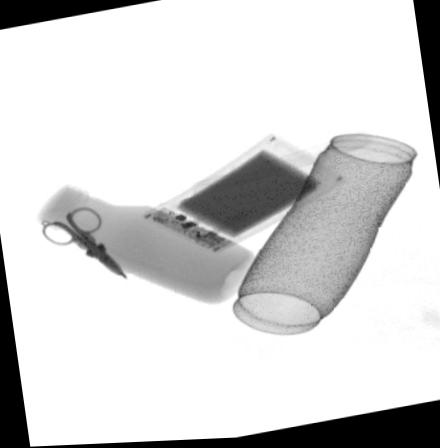Powerbank: (137, 132, 346, 257)
Scissors: (40, 204, 127, 282)
